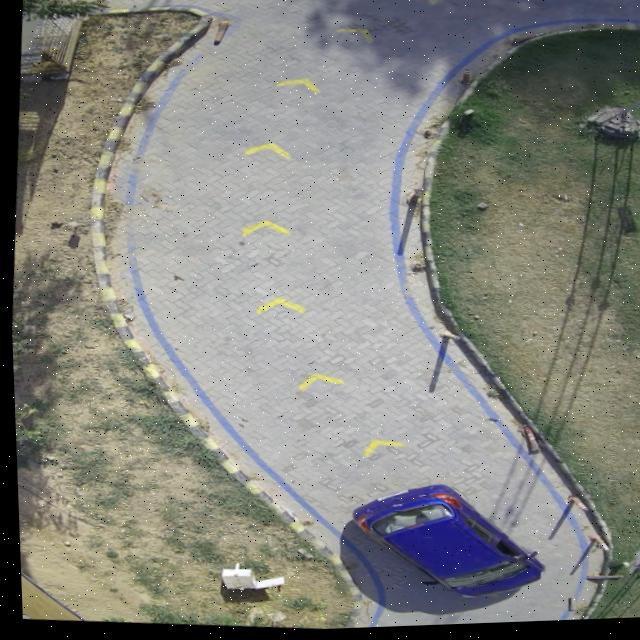car: (347, 487, 539, 602)
